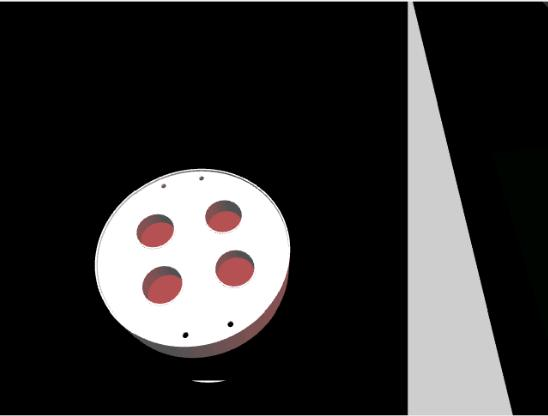hole: (135, 264, 187, 309), (200, 195, 249, 239), (131, 211, 179, 252), (211, 251, 258, 291)
